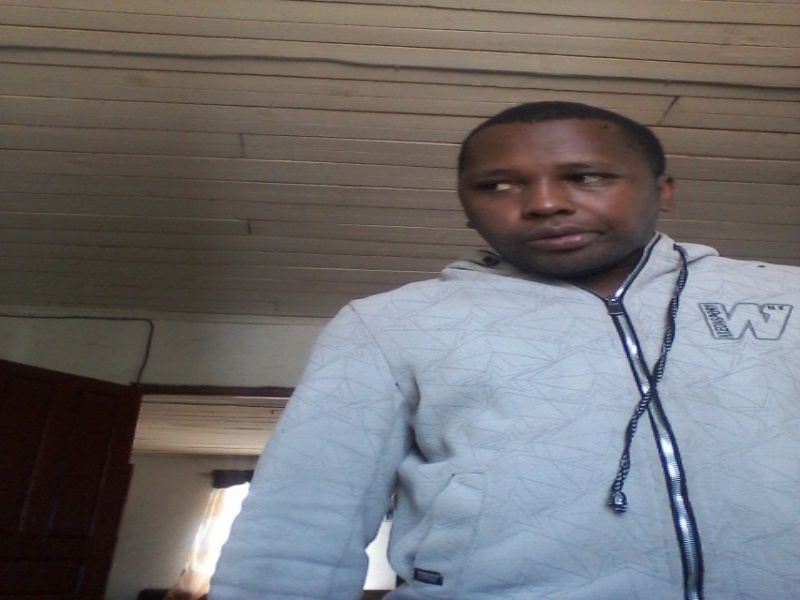TsisyArotava: (445, 99, 679, 275)
